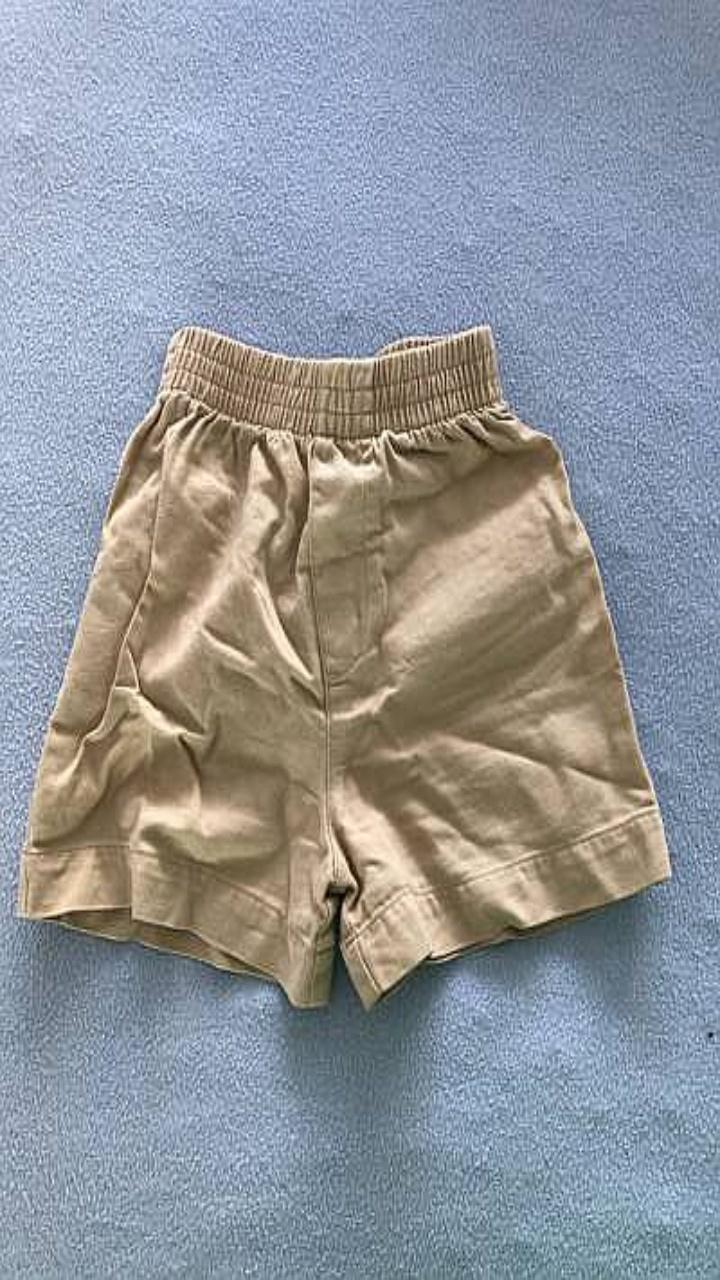Shorts: (16, 324, 670, 1008)
